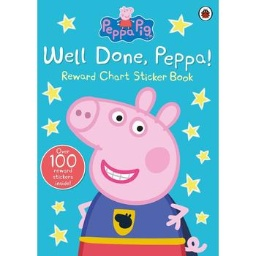Peppa: (64, 86, 189, 256)
